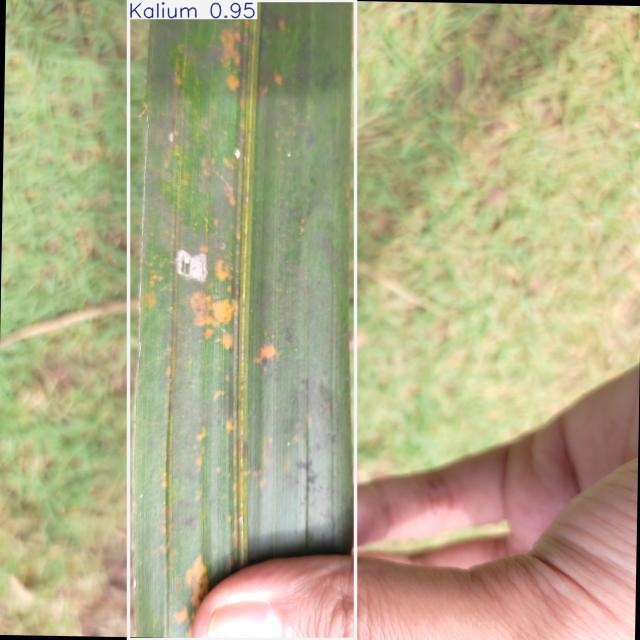Kalium: (128, 0, 355, 639)
